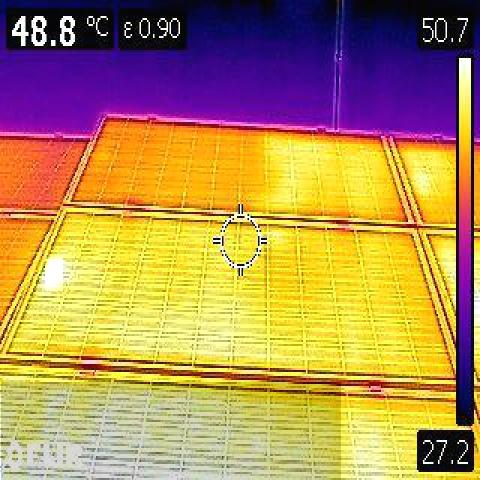fault: (1, 382, 341, 480), (45, 256, 63, 292)
